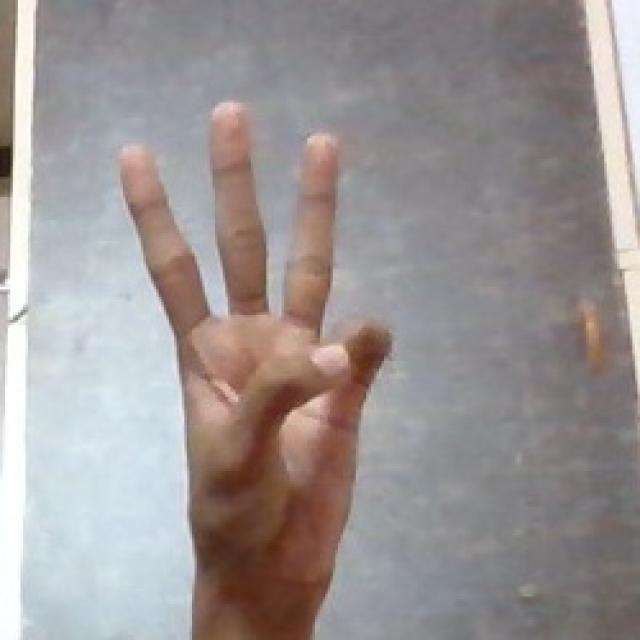Numeric-6: (110, 98, 400, 640)
